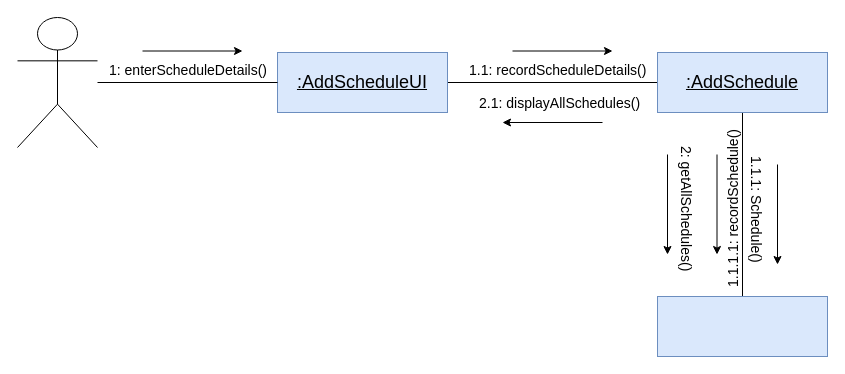
Image size: 845x374. Some labels were removed from this diagram. Each missing label, with the centre of its shape:
: Schedule: (742,326)
Admin: (57,82)
